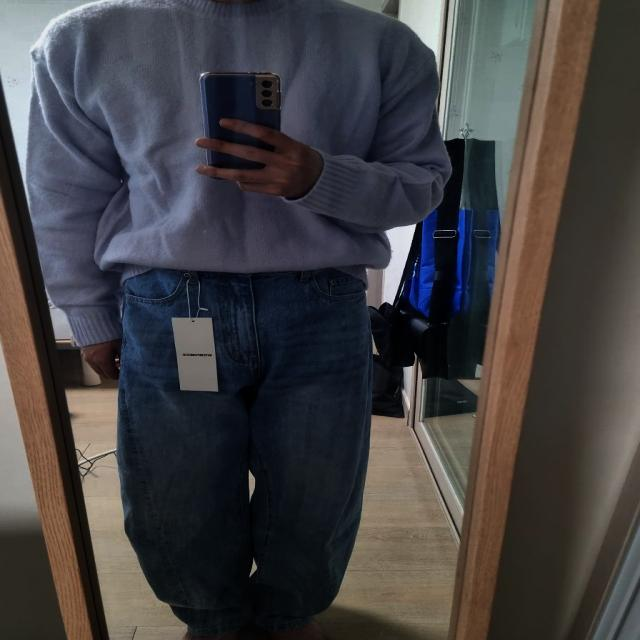denimpants: (116, 268, 373, 628)
sweater: (27, 0, 449, 348)
